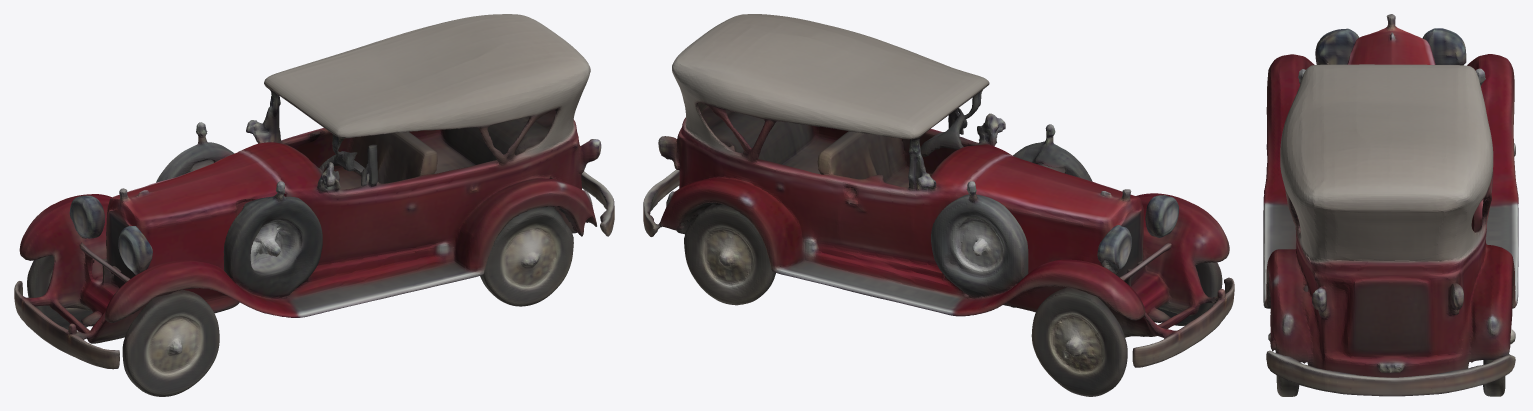
Rendered from stream3d.glb.
3 renders of one model, left to right at view 1: azimuth 30°, elevation 25°; view 2: azimuth 150°, elevation 25°; view 3: azimuth 270°, elevation 25°, orthographic. The views are drawn at different scales.
Visible parts, largest first — view 1: world; view 2: world; view 3: world.
Part boxes in pixels (bbox=[...]): world: bbox=[14, 14, 614, 396]; world: bbox=[643, 14, 1234, 396]; world: bbox=[1263, 14, 1518, 396].
Size of the model in its own units: 0.9994 by 0.4113 by 0.3652.
